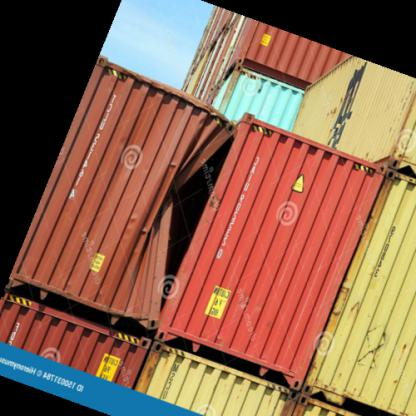Damage: (136, 120, 256, 305)
